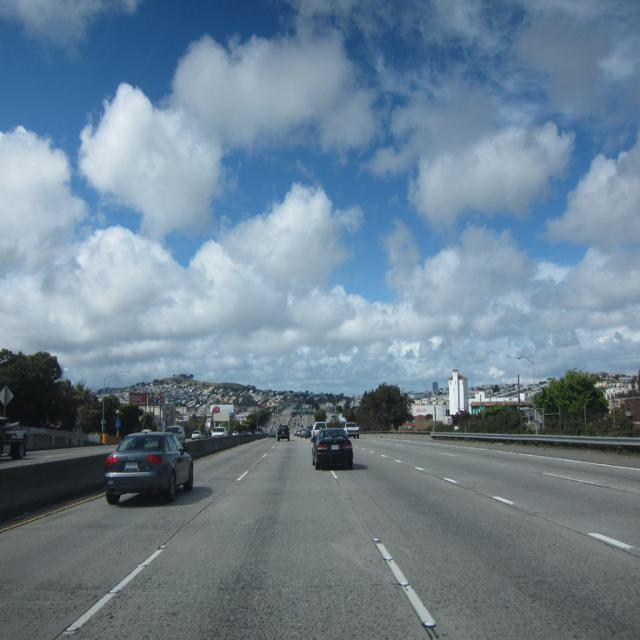car: (105, 433, 190, 509), (312, 426, 351, 466), (277, 422, 290, 441)
